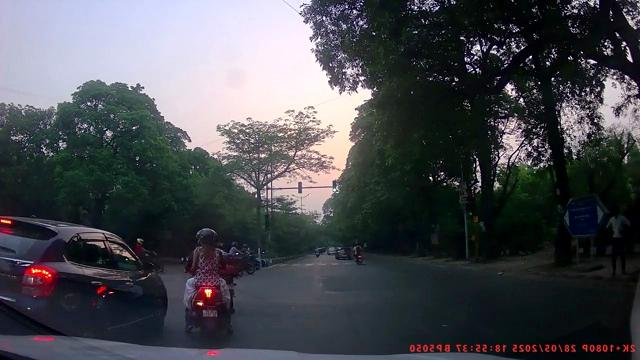passenger_with_helmet: (181, 226, 237, 345)
